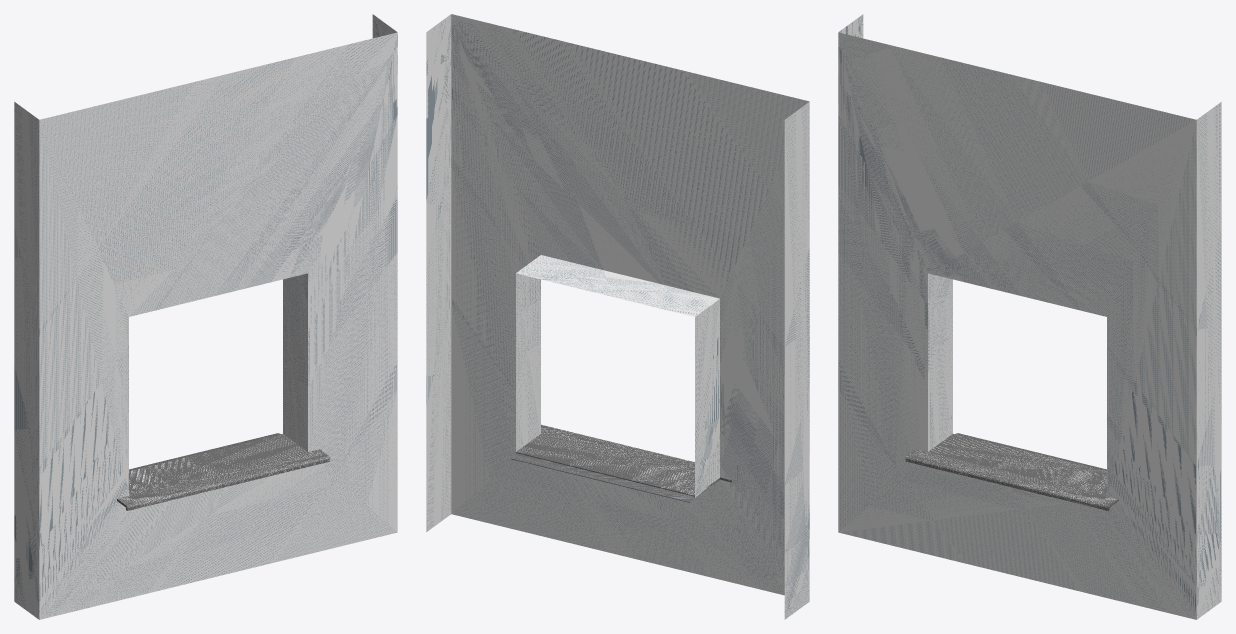
The model's file is WindowBlock_os_[300x400]_150x143x[080].dae.
3 views of the same model, side by side, from view 1: azimuth 30°, elevation 25°; view 2: azimuth 150°, elevation 25°; view 3: azimuth 330°, elevation 25° (orthographic).
Parts seen in each view (by area): view 1: group_2 (×2), group_1; view 2: group_2 (×2), group_1 (×2); view 3: group_2 (×2), group_1.
Boxes of the visible parts, x1,y1,x2,y2 form: group_2 (×2): [14, 14, 397, 619]; group_1: [117, 434, 330, 510]; group_2 (×2): [426, 14, 809, 619]; group_1 (×2): [511, 424, 731, 502]; group_2 (×2): [838, 14, 1221, 619]; group_1: [905, 434, 1118, 510].
Size of the model in its own units: 118 by 23.03 by 157.
